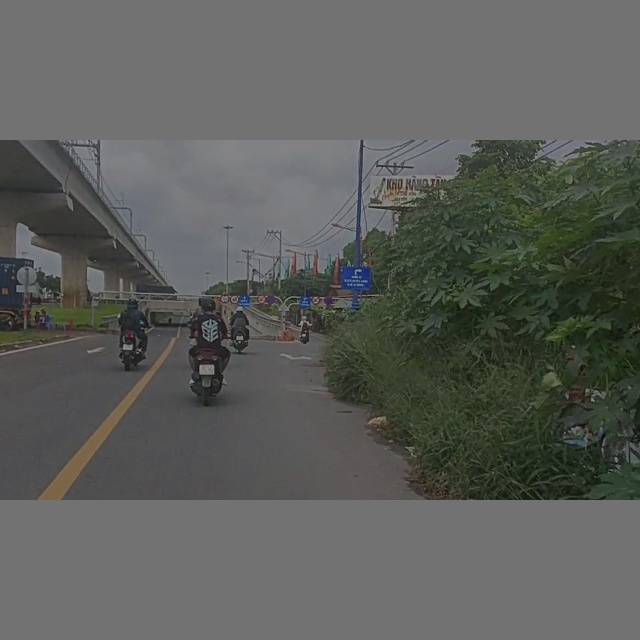P.107: (311, 296, 321, 305), (257, 295, 266, 303)
P.117*: (221, 294, 230, 303)
P.127*40: (231, 295, 240, 304)
P.130: (324, 296, 334, 305), (267, 295, 276, 304)
